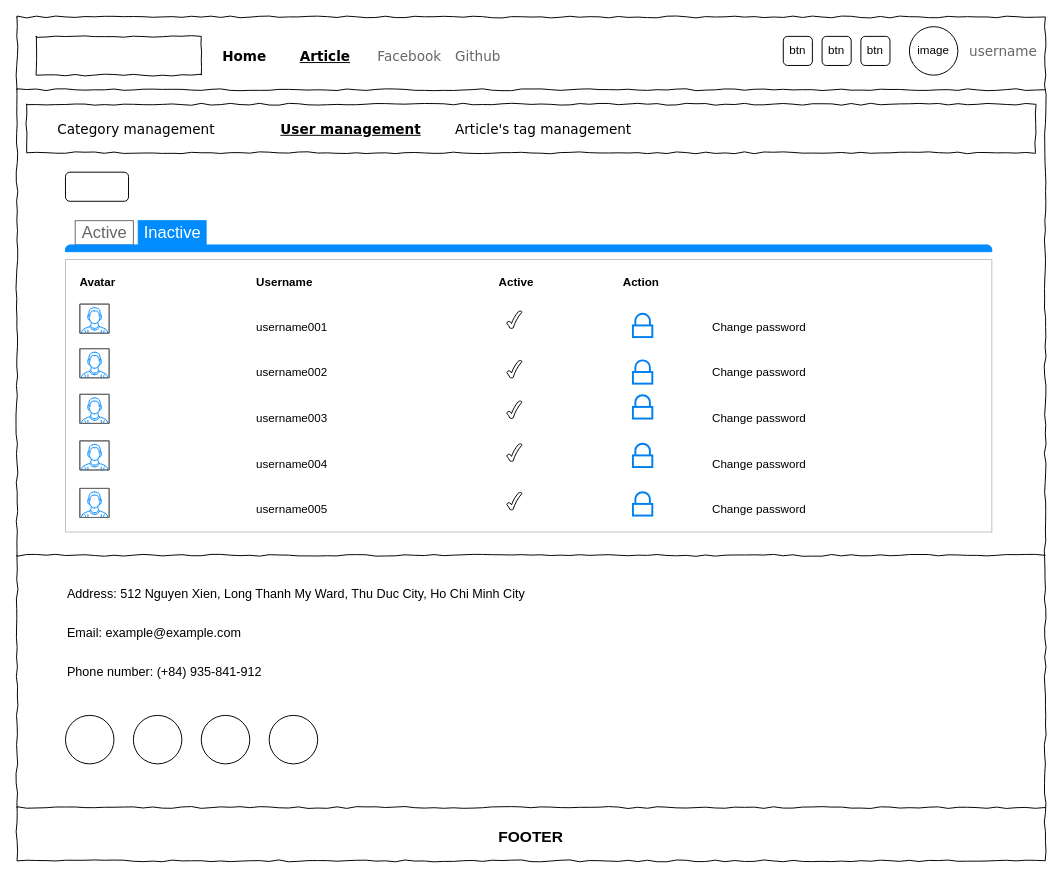
This 1062x878 diagram has some shape labels left out. Here are the shapes that lost their labels. From the top down, the centre of each, then its label:
At point (118, 55): "LOGO".
At point (97, 186): "Add".
